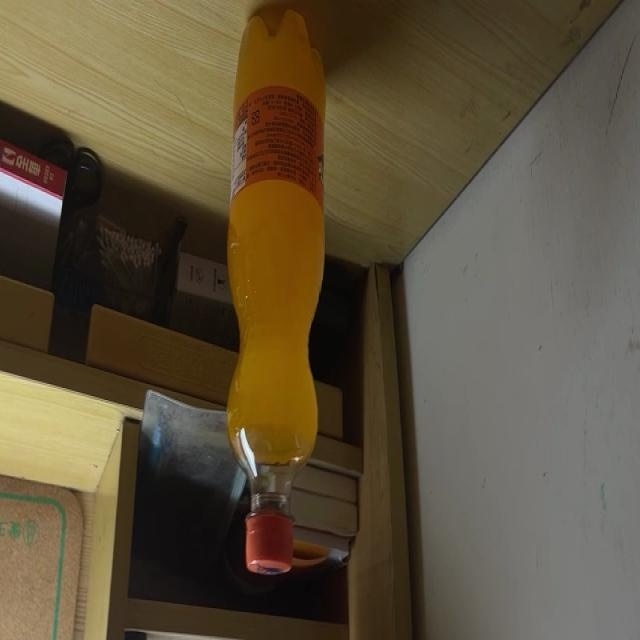Fanta: (227, 8, 327, 578)
